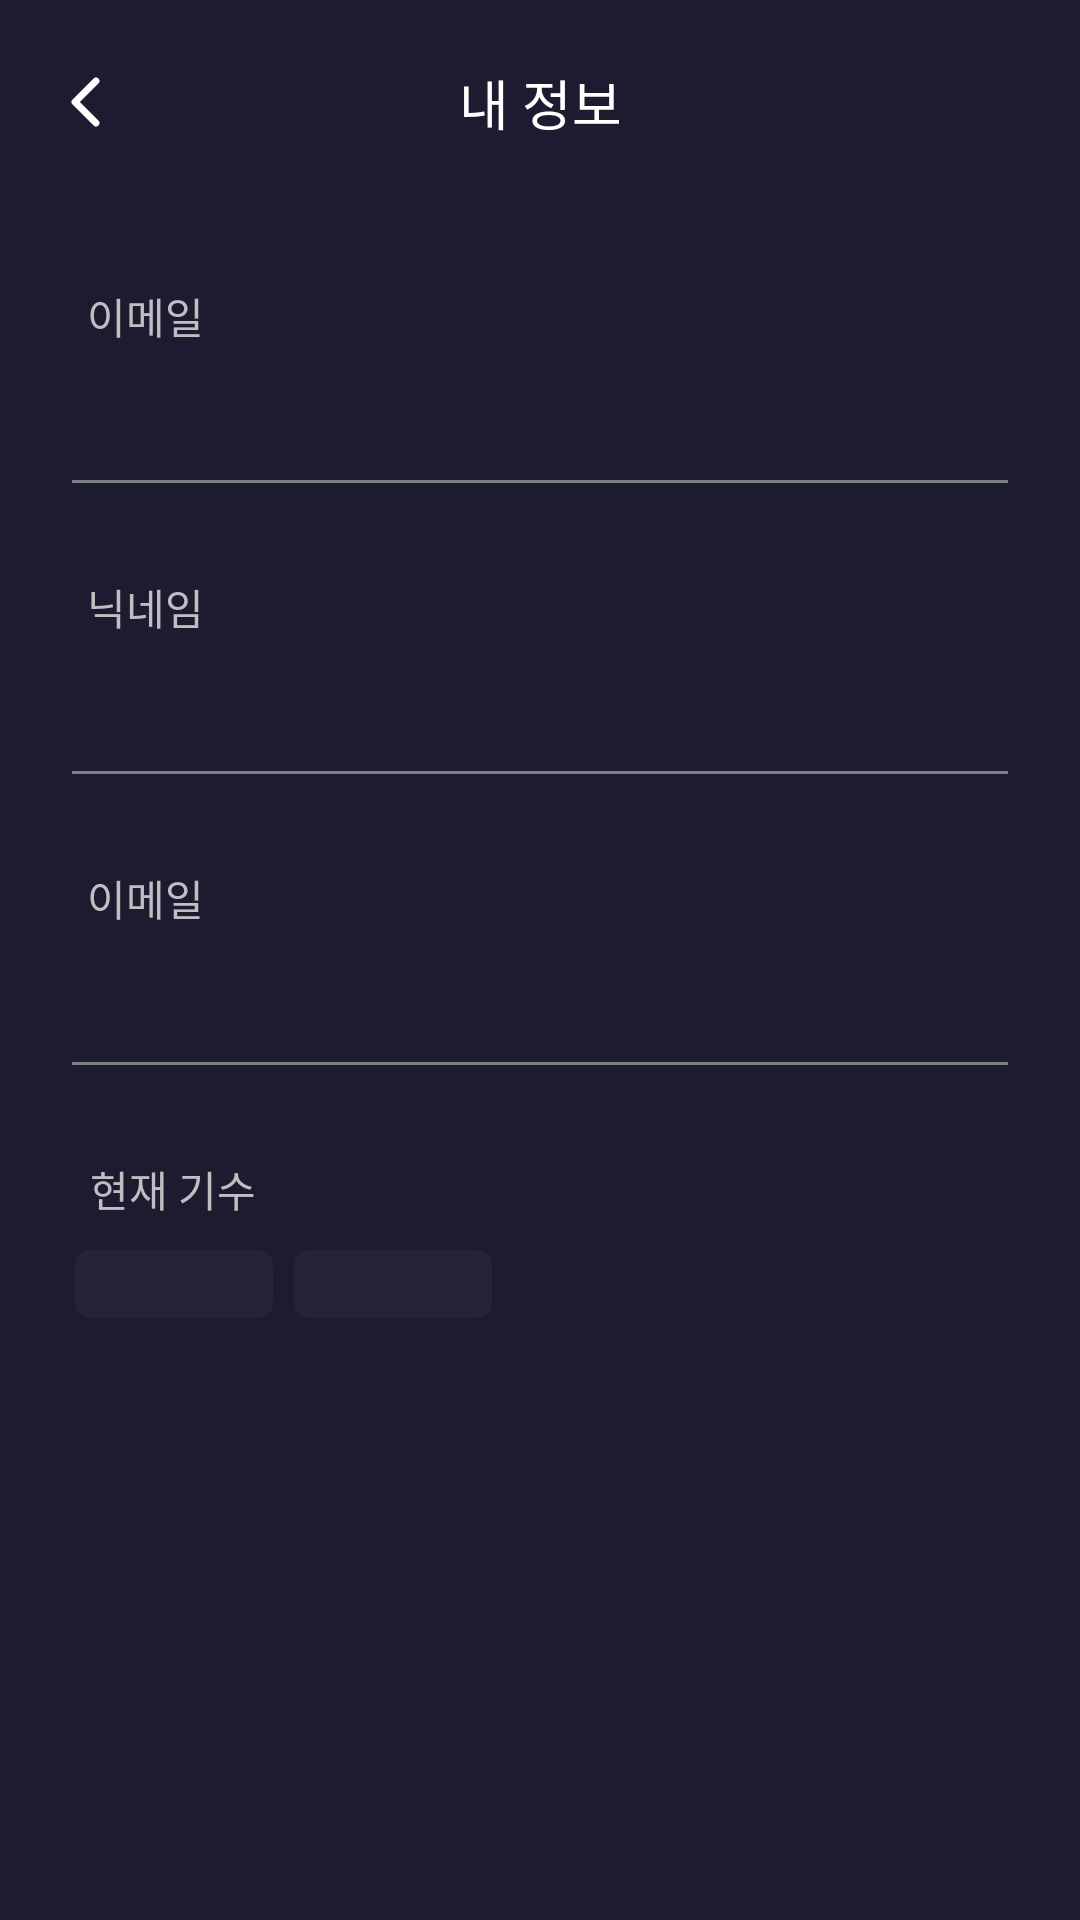

Point at icon controls on the screen. Image size 1080×1920, points as point (x, y).
arrow left: point (85, 102)
